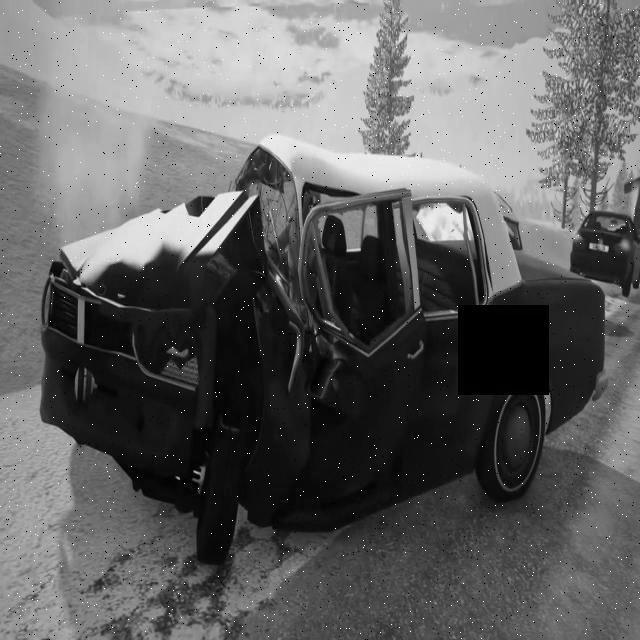accident: (30, 124, 612, 572)
vehicle: (570, 209, 640, 298)
